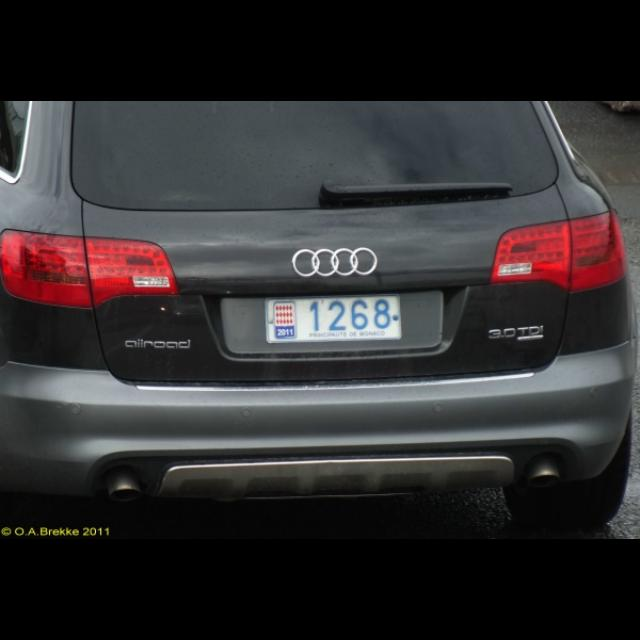carPlate: (268, 295, 400, 341)
